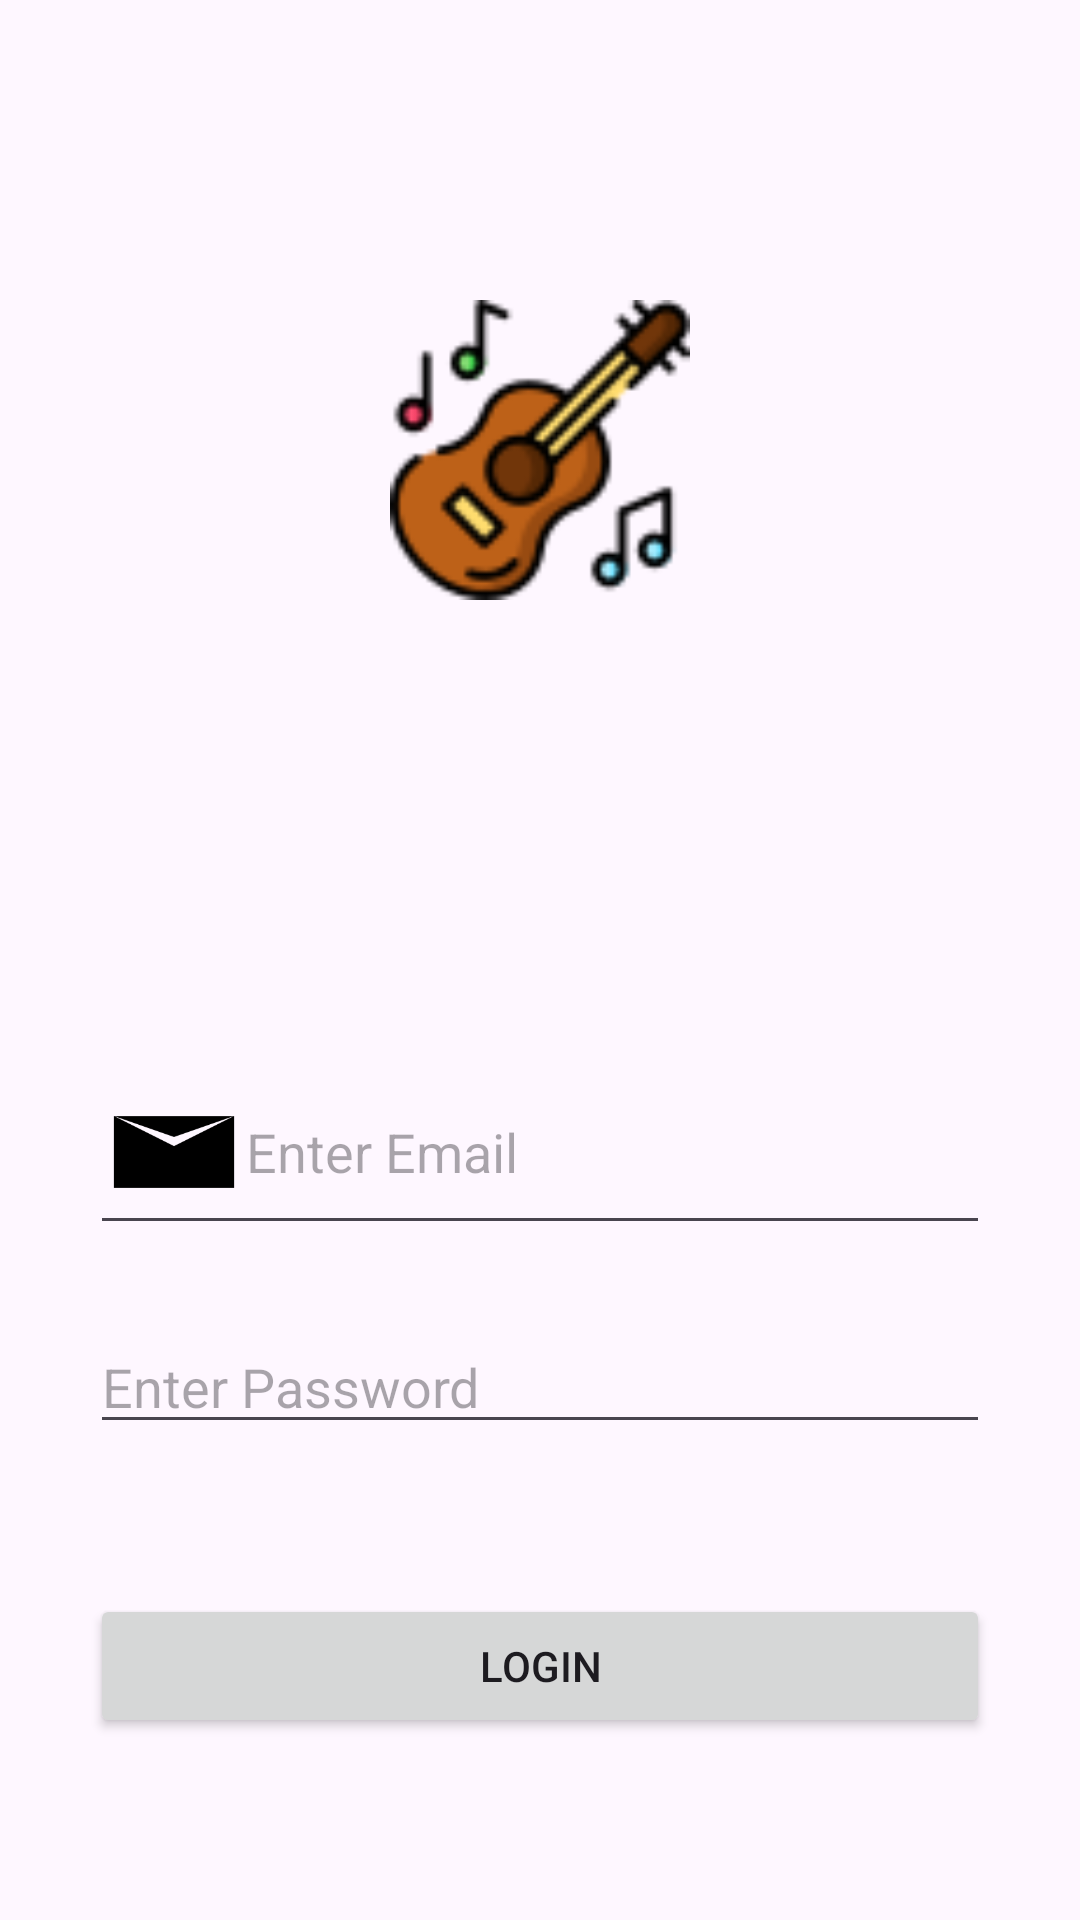

Named icons in this screenshot (1080×1920) and their centers, (x=x, y=y):
guitar: (x=540, y=450)
